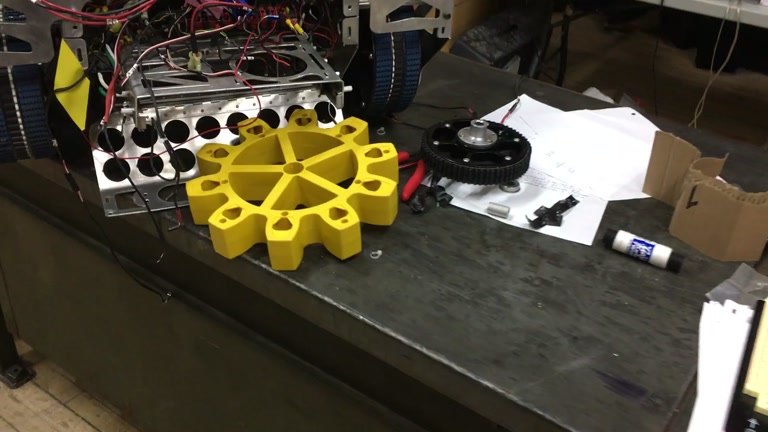gear: (185, 107, 399, 271)
